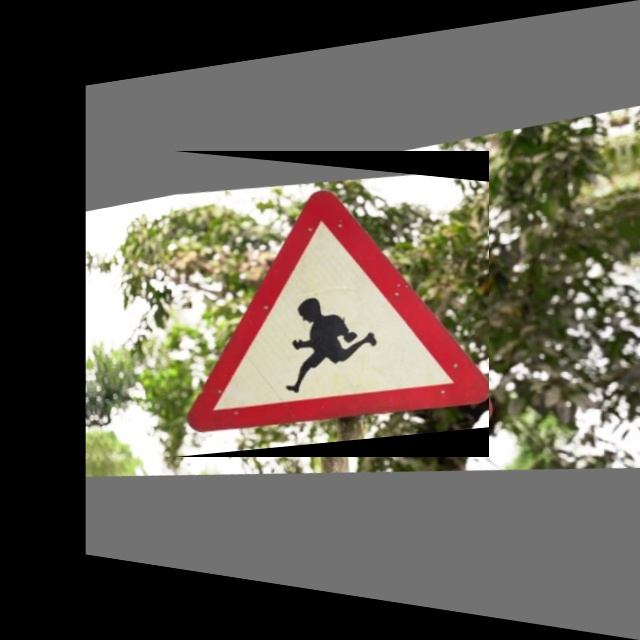School_Ahead: (174, 151, 489, 457)
